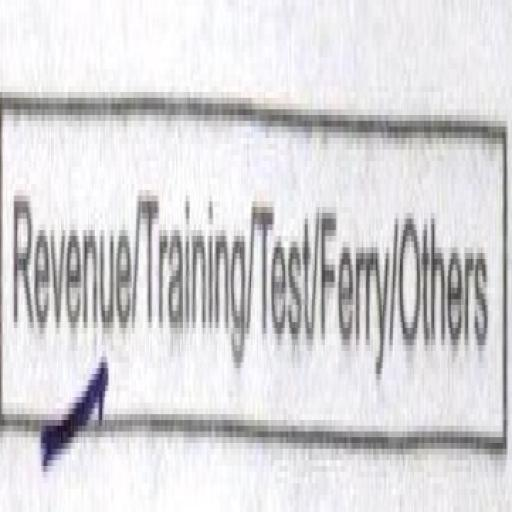check: (5, 120, 139, 484)
